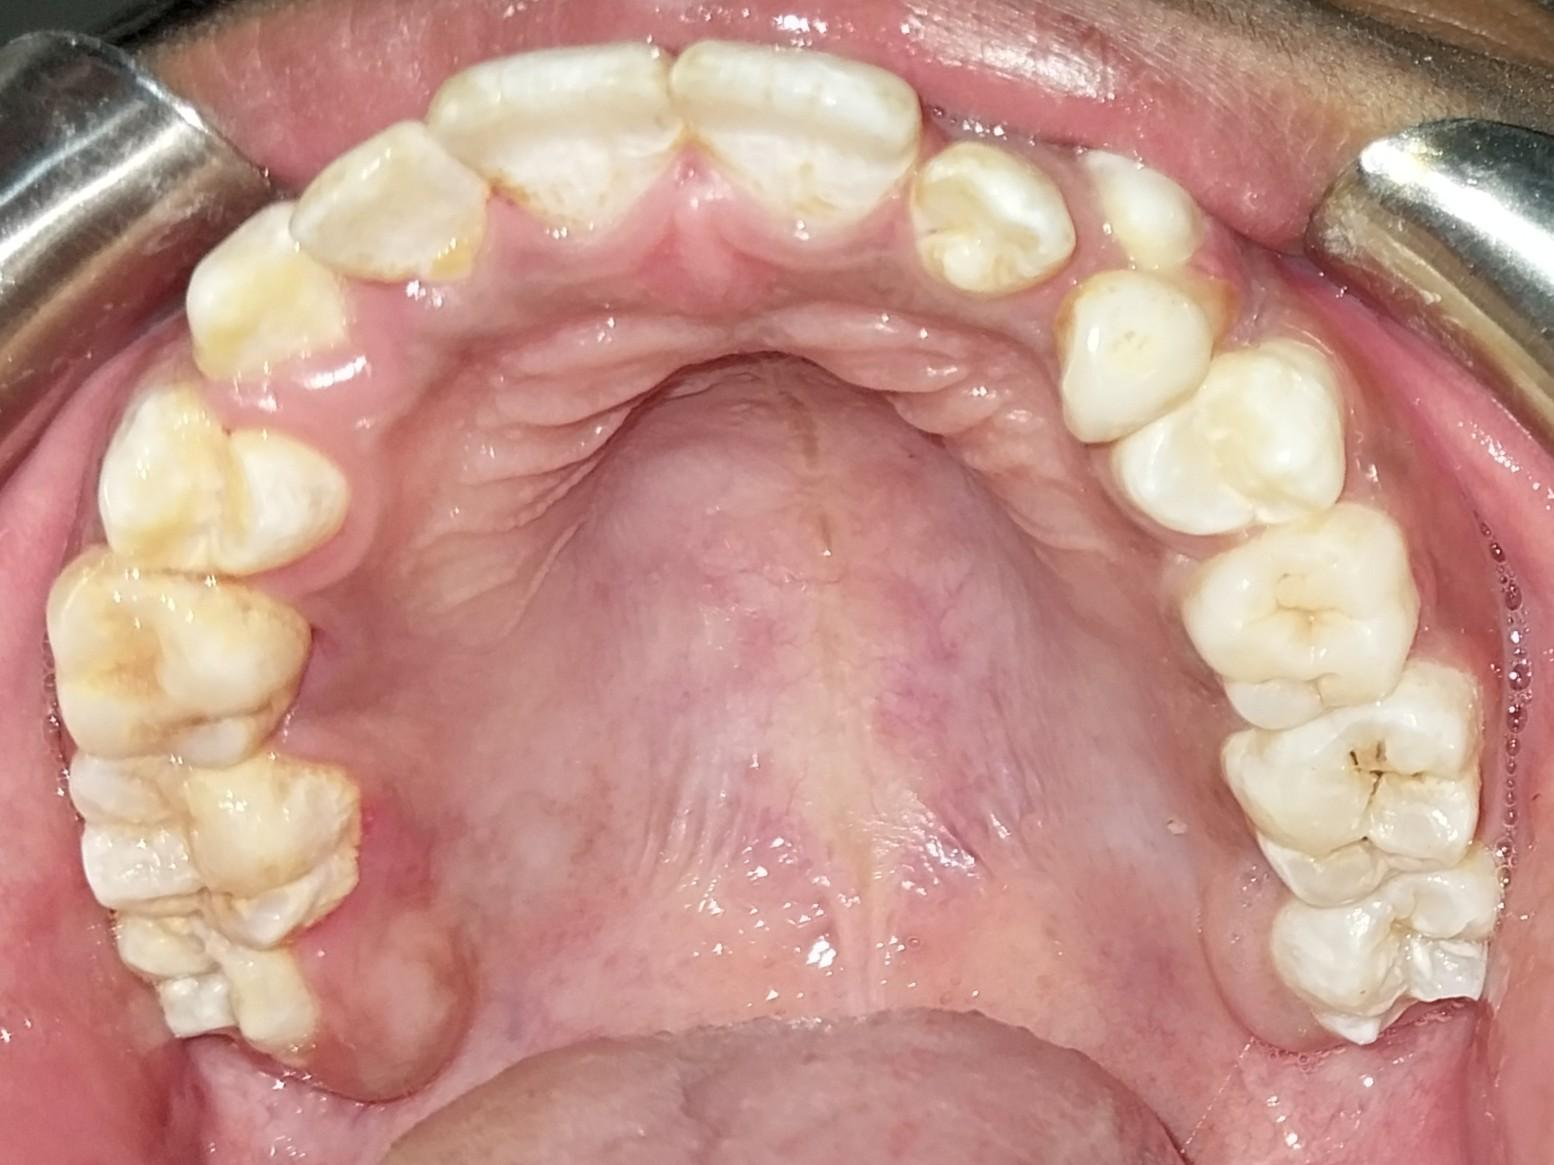D: (1223, 675, 1479, 903)
